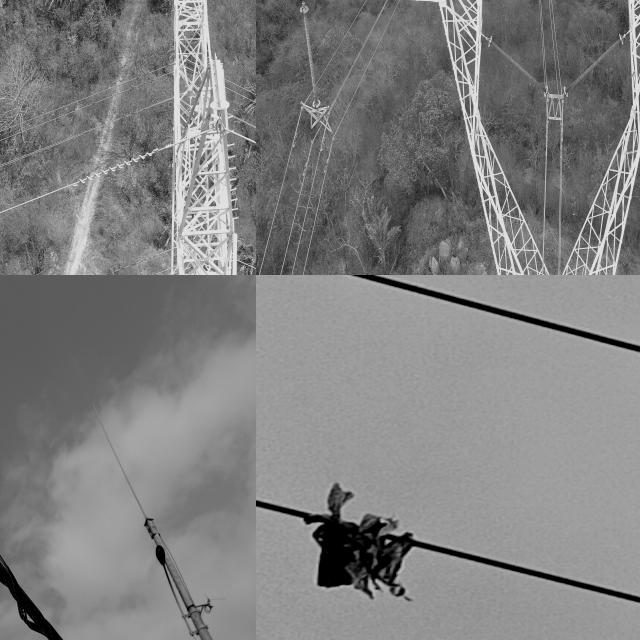杆塔: (321, 0, 640, 275), (170, 0, 228, 275)
植被遮挡: (286, 477, 427, 606)
正常电缆: (256, 105, 306, 275), (277, 135, 317, 275), (289, 134, 328, 275), (300, 136, 338, 275)
正常绝缘子: (562, 31, 625, 100), (486, 35, 548, 98), (292, 11, 325, 112)
电缆破损: (0, 450, 111, 640)
